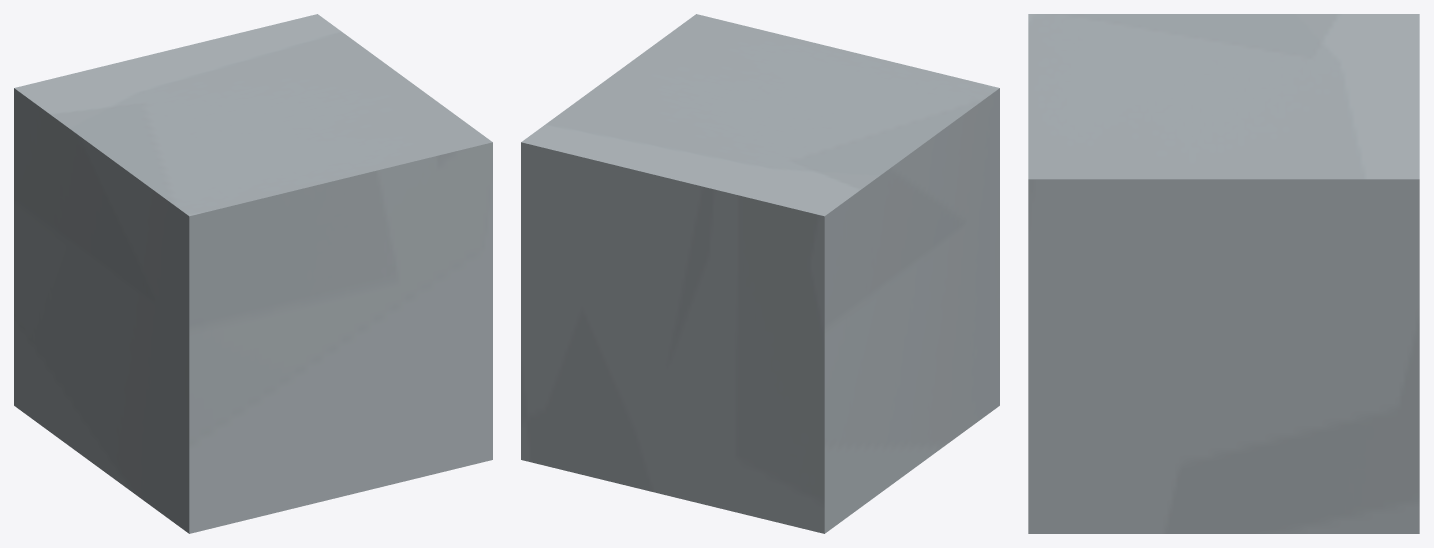
File: Pillar_Cube_1.glb
3 views of the same model, side by side, from view 1: azimuth 30°, elevation 25°; view 2: azimuth 150°, elevation 25°; view 3: azimuth 270°, elevation 25° (orthographic). The views are drawn at different scales.
Visible parts, largest first — view 1: Pillar_Cube_1; view 2: Pillar_Cube_1; view 3: Pillar_Cube_1.
Part boxes in pixels (x1,y1,x2,y2): Pillar_Cube_1: (14,14,492,533); Pillar_Cube_1: (521,14,999,533); Pillar_Cube_1: (1028,14,1419,533).
Bounding box in the file's own units: 0.2 × 0.2 × 0.2.
Materials: 1 (1 with a texture image).
